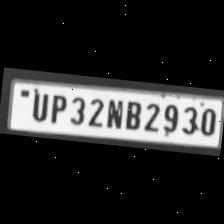0: (196, 104, 218, 138)
2: (140, 100, 162, 134), (86, 94, 106, 128)
3: (179, 102, 200, 136), (66, 92, 86, 126)
9: (158, 101, 181, 135)
B: (120, 97, 144, 131)
N: (102, 96, 124, 130)
P: (46, 90, 68, 124)
U: (27, 88, 50, 122)
